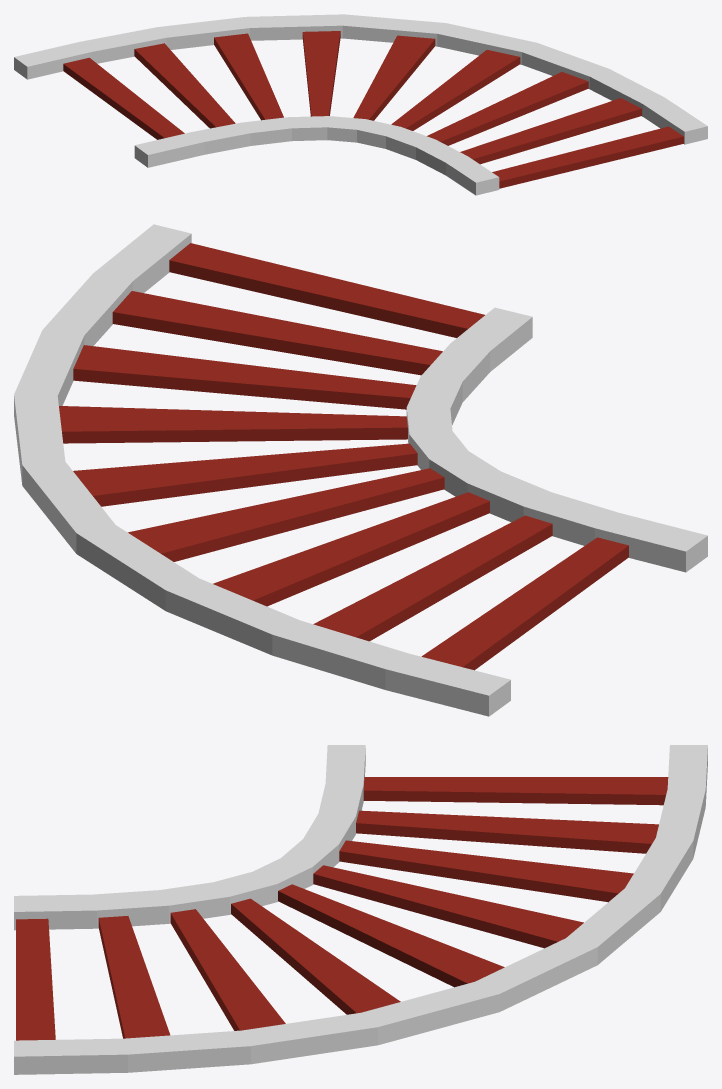
The model's file is Rail90Degree.fbx.
3 renders of one model, top to bottom at view 1: azimuth 30°, elevation 25°; view 2: azimuth 150°, elevation 25°; view 3: azimuth 270°, elevation 25°, orthographic. The views are drawn at different scales.
Visible parts, largest first — view 1: Rail90Degree; view 2: Rail90Degree; view 3: Rail90Degree.
Part boxes in pixels (bbox=[...]): Rail90Degree: bbox=[14, 14, 707, 195]; Rail90Degree: bbox=[14, 224, 707, 716]; Rail90Degree: bbox=[14, 745, 707, 1074].
Bounding box in the file's own units: 768 × 20.92 × 723.
